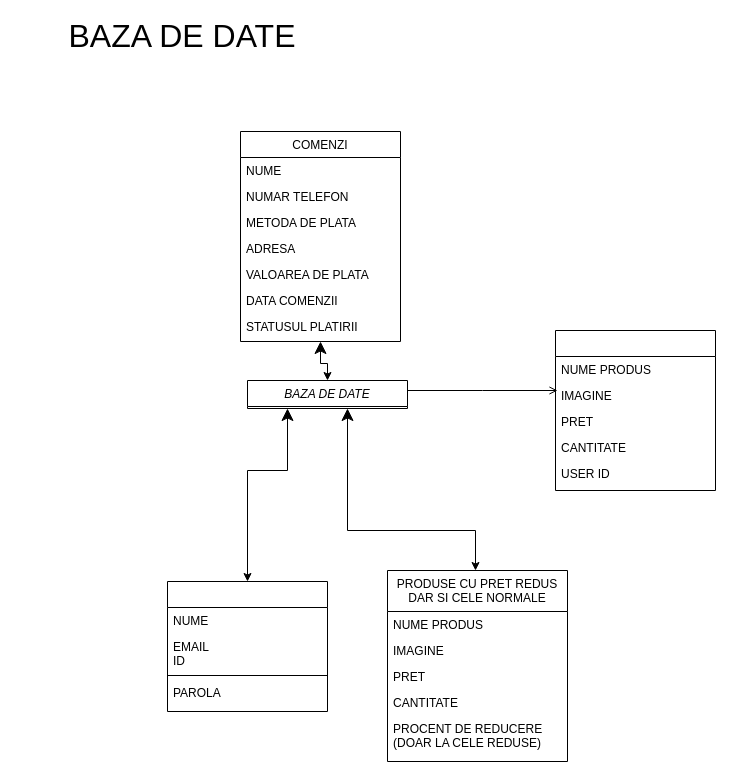
The diagram is 733 pixels wide and 780 high, and some of its shapes have lost their labels. Here are the shapes that lost their labels. From the top down, the box of each, then its label:
(554, 330, 716, 490): COS DE CUMPARATURI
(166, 580, 328, 712): UTILIZATORI
